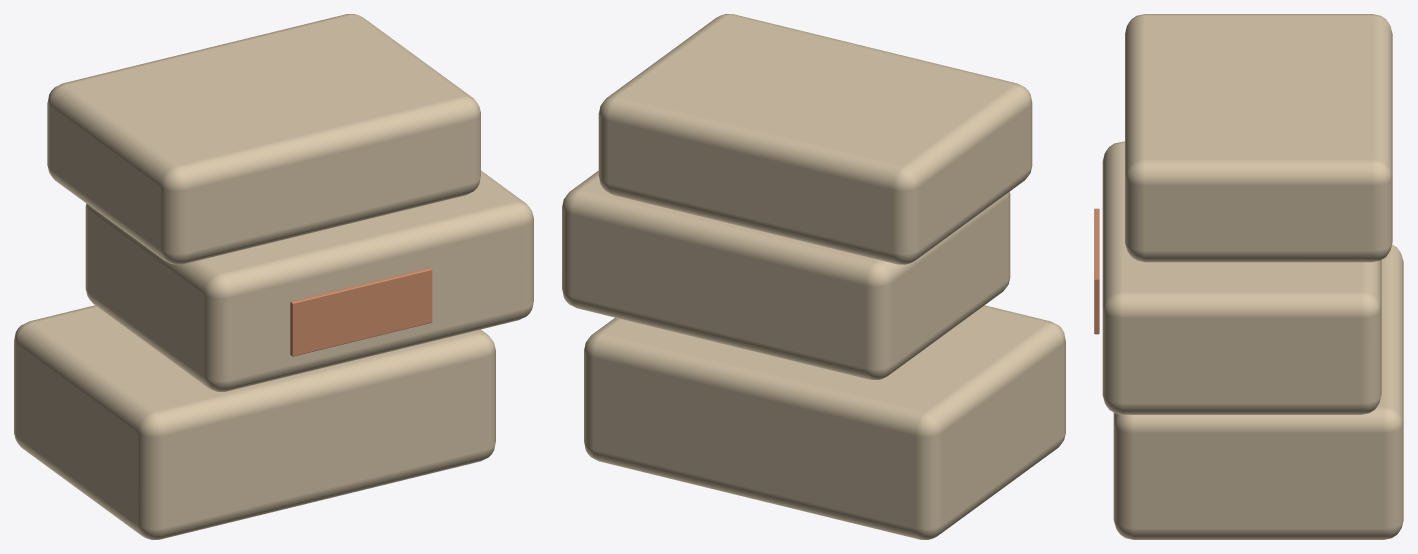
File: ceramics-pottery-studio-clay-bag-stack-2d73c1af__29506.glb
The picture shows the model from 3 angles, left to right: view 1: azimuth 30°, elevation 25°; view 2: azimuth 150°, elevation 25°; view 3: azimuth 270°, elevation 25°; orthographic projection. The views are drawn at different scales.
Visible parts, largest first — view 1: clay-bag-stack; view 2: clay-bag-stack; view 3: clay-bag-stack.
Boxes of the visible parts, <box> form: clay-bag-stack: <box>14,14,533,539</box>; clay-bag-stack: <box>562,14,1065,539</box>; clay-bag-stack: <box>1094,14,1403,539</box>.
Size of the model in its own units: 0.415 by 0.37 by 0.2775.
